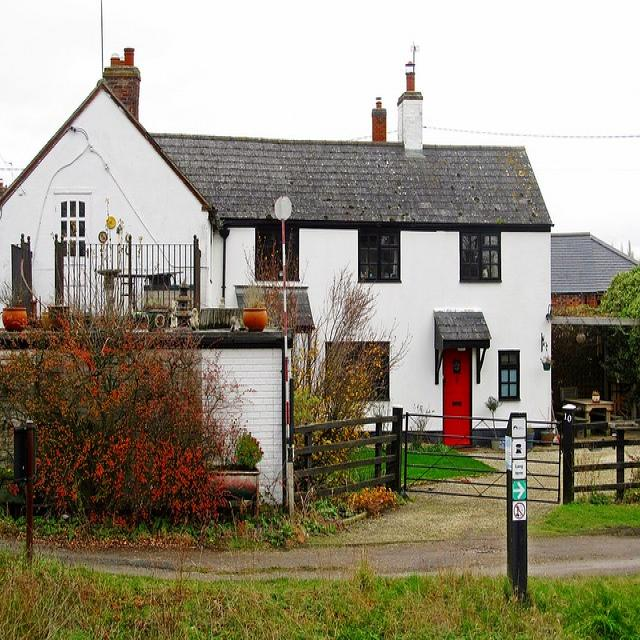Normal_building: (0, 56, 554, 532)
